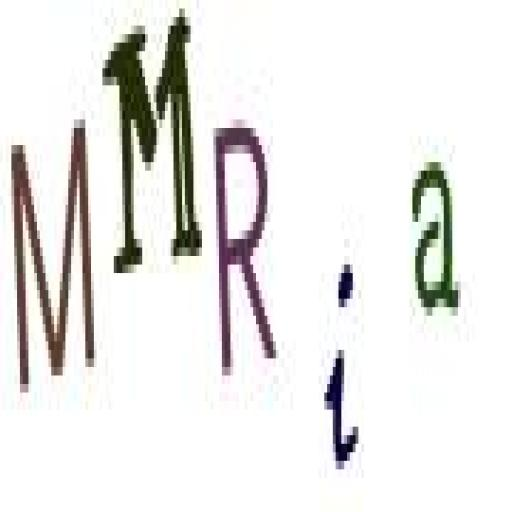M: (98, 7, 206, 285), (9, 120, 97, 401)
R: (210, 104, 281, 383)
a: (408, 148, 468, 338)
i: (320, 247, 368, 486)
